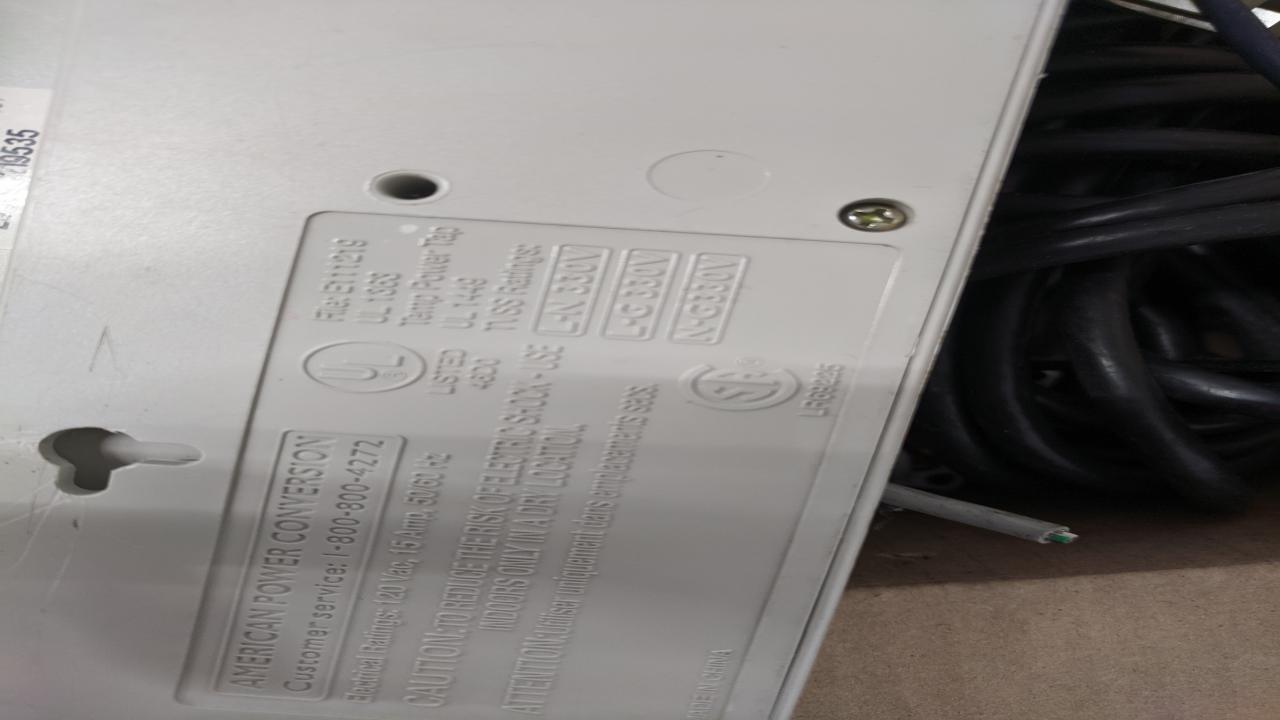CRS: (842, 201, 909, 231)
